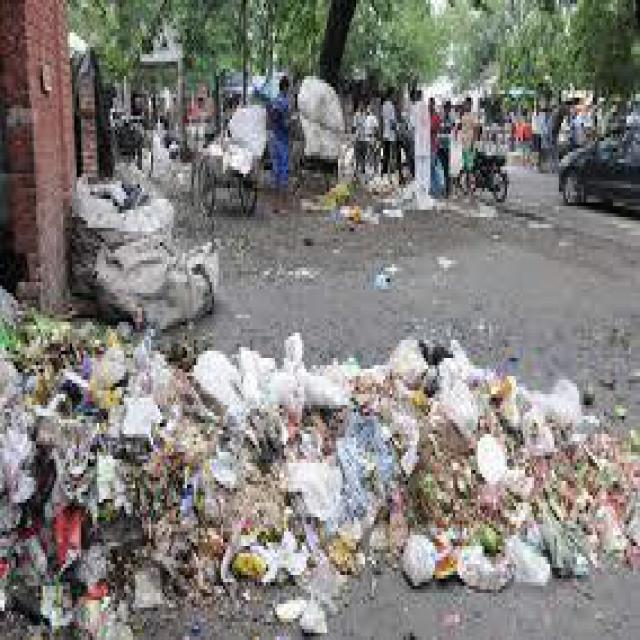garbage: (5, 268, 638, 636), (68, 170, 225, 340), (302, 119, 421, 246)
